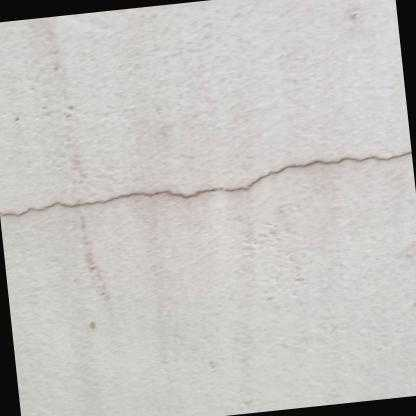crack: (0, 151, 411, 215)
